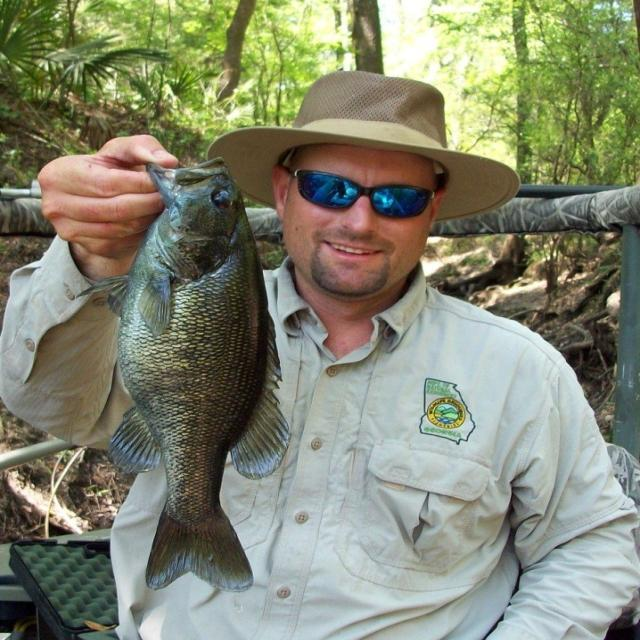Bass - Largemouth: (80, 158, 289, 591)
